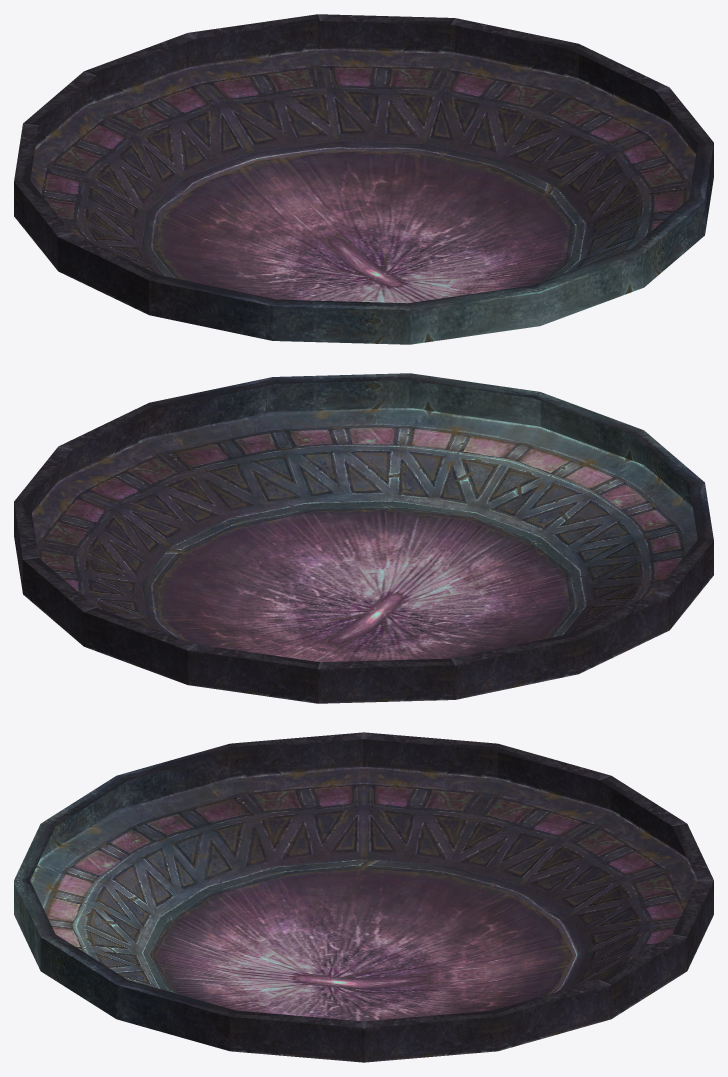
Rendered from huodong_fuben_653_yuanpan_02.obj.
The picture shows the model from 3 angles, top to bottom: view 1: azimuth 30°, elevation 25°; view 2: azimuth 150°, elevation 25°; view 3: azimuth 270°, elevation 25°; orthographic projection.
Visible parts, largest first — view 1: huodong_fuben_653_yuanpan_02; view 2: huodong_fuben_653_yuanpan_02; view 3: huodong_fuben_653_yuanpan_02.
Boxes of the visible parts, box(x1,y1,x2,y2) form: huodong_fuben_653_yuanpan_02: box(14, 14, 713, 344); huodong_fuben_653_yuanpan_02: box(14, 373, 713, 703); huodong_fuben_653_yuanpan_02: box(14, 732, 713, 1062).
Size of the model in its own units: 586 by 96.69 by 586.
Materials: 1 (1 with a texture image).
